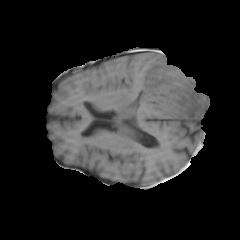glioma: (137, 58, 206, 119)
